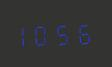five: (56, 19, 74, 46)
one: (18, 21, 36, 47)
six: (75, 19, 93, 45)
zero: (37, 20, 55, 47)
